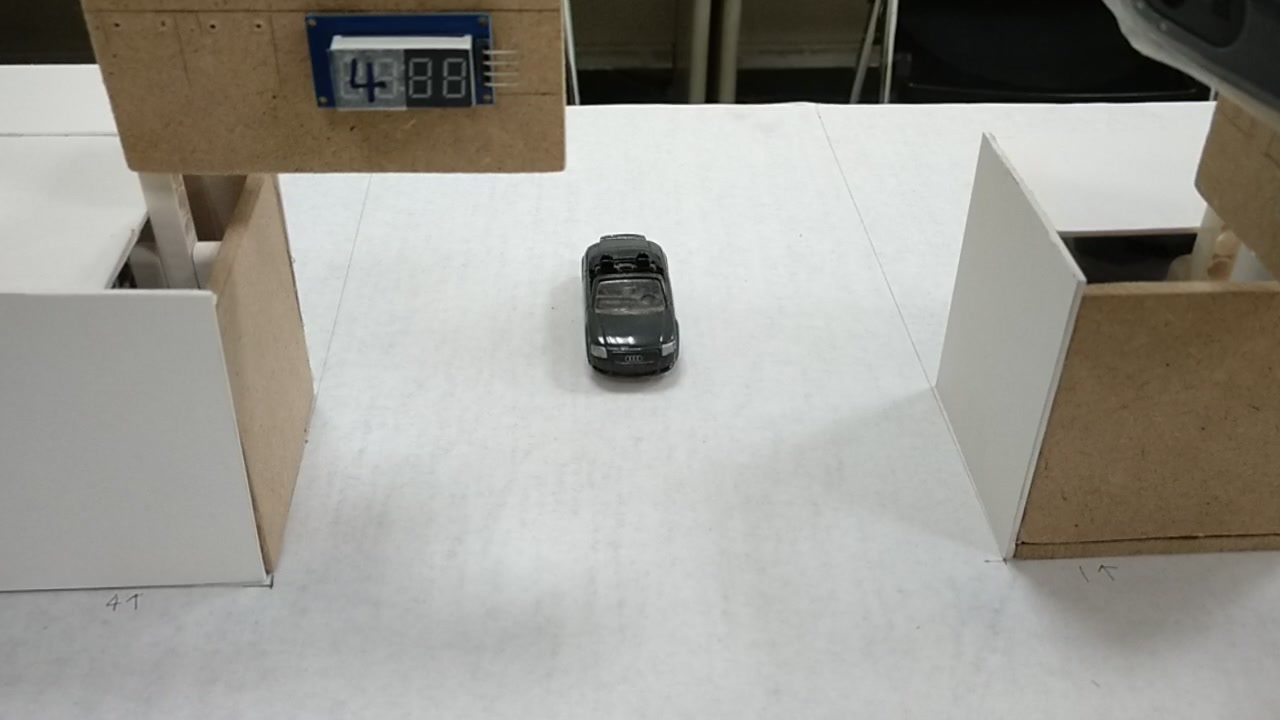car: (580, 232, 678, 373)
